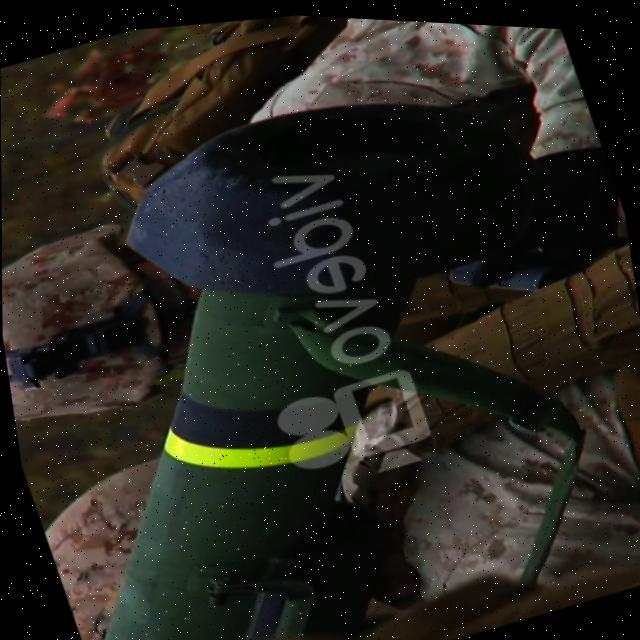rocket: (0, 15, 640, 640)
